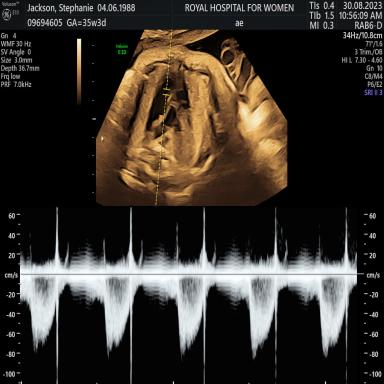Ultrasound-Waves: (28, 208, 354, 384)
